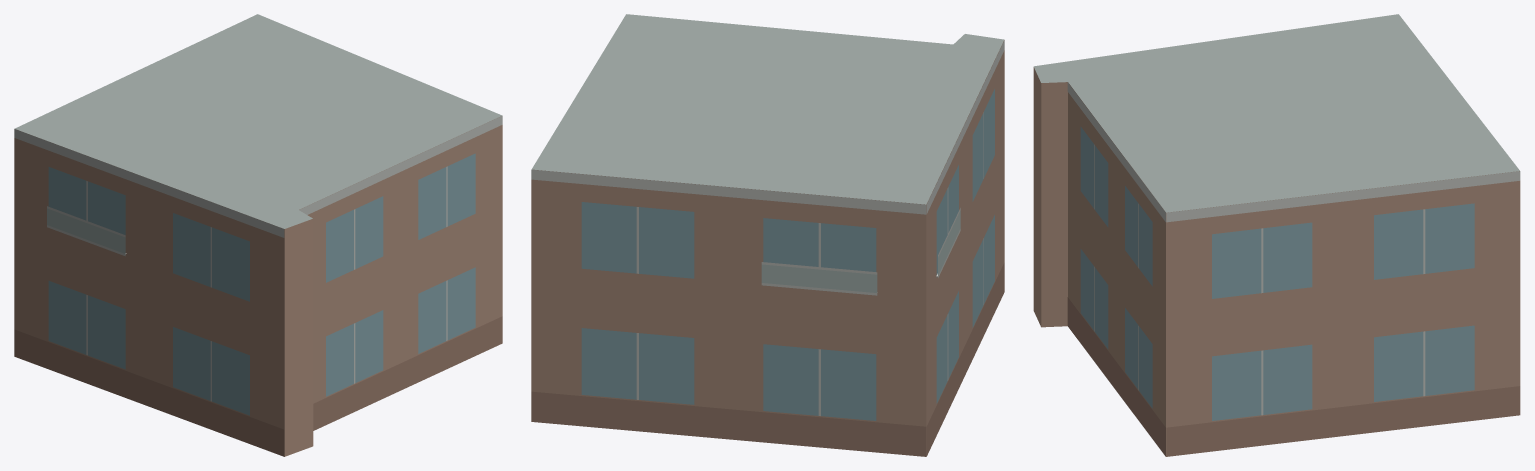
The model's file is survey-upis-33013844.glb.
The picture shows the model from 3 angles, left to right: view 1: azimuth 30°, elevation 25°; view 2: azimuth 150°, elevation 25°; view 3: azimuth 270°, elevation 25°; orthographic projection. The views are drawn at different scales.
Parts seen in each view (by area): view 1: survey-upis-33013844.tmp; view 2: survey-upis-33013844.tmp; view 3: survey-upis-33013844.tmp.
Boxes of the visible parts, box(x1,y1,x2,y2) form: survey-upis-33013844.tmp: box(14, 14, 502, 456); survey-upis-33013844.tmp: box(531, 14, 1004, 456); survey-upis-33013844.tmp: box(1033, 14, 1520, 456).
Bounding box in the file's own units: 10.65 × 6.1 × 11.03.
